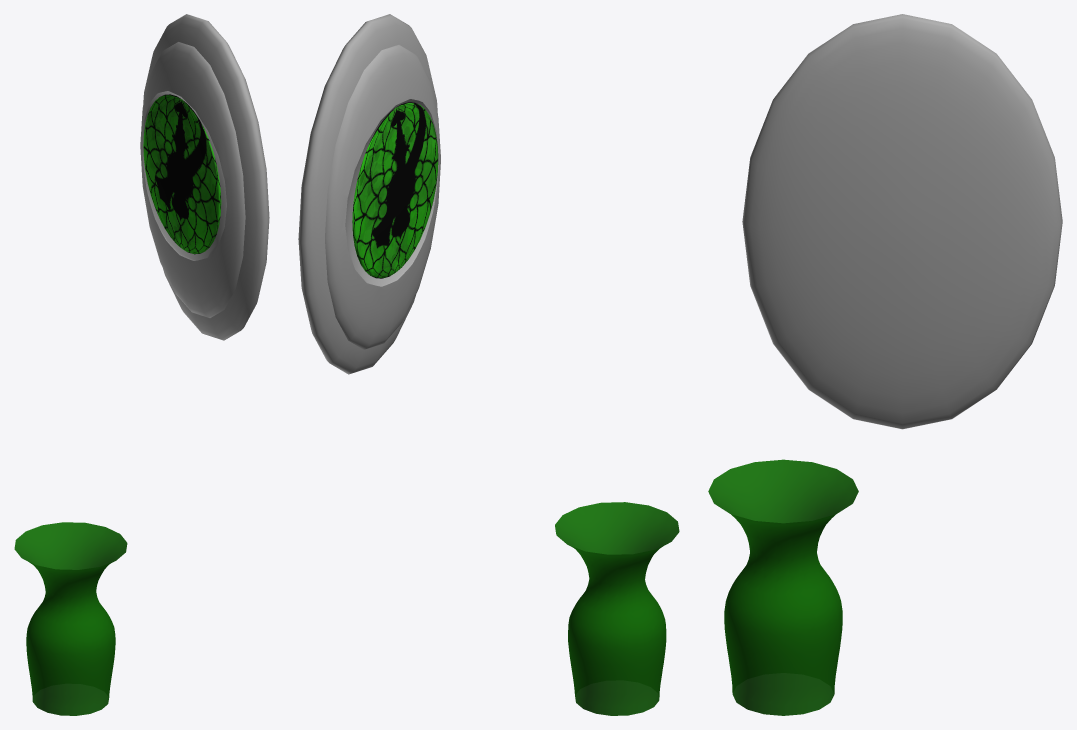
File: clockvase.fbx
The picture shows the model from 3 angles, left to right: view 1: azimuth 30°, elevation 25°; view 2: azimuth 150°, elevation 25°; view 3: azimuth 270°, elevation 25°; orthographic projection. The views are drawn at different scales.
Parts seen in each view (by area): view 1: cafenoshadow:polySurface5, nurbsToPoly1, cafenoshadow:pSphere18; view 2: cafenoshadow:polySurface5, nurbsToPoly1, cafenoshadow:pSphere18; view 3: cafenoshadow:polySurface5, nurbsToPoly1.
Boxes of the visible parts, <box> form: cafenoshadow:polySurface5: <box>140,14,269,340</box>; nurbsToPoly1: <box>14,522,127,715</box>; cafenoshadow:pSphere18: <box>143,94,221,254</box>; cafenoshadow:polySurface5: <box>298,14,440,374</box>; nurbsToPoly1: <box>555,502,679,715</box>; cafenoshadow:pSphere18: <box>352,102,438,278</box>; cafenoshadow:polySurface5: <box>742,14,1062,429</box>; nurbsToPoly1: <box>708,459,858,715</box>.
Size of the model in its own units: 6.4 by 14.77 by 5.96.
